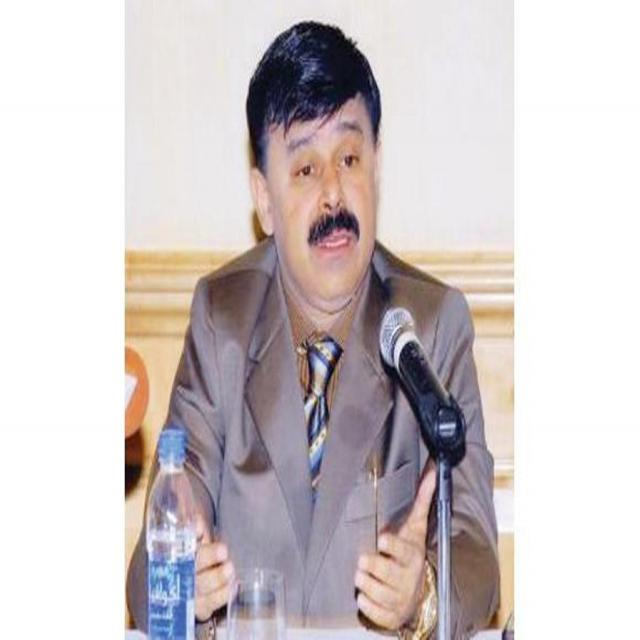nomask: (274, 70, 374, 290)
